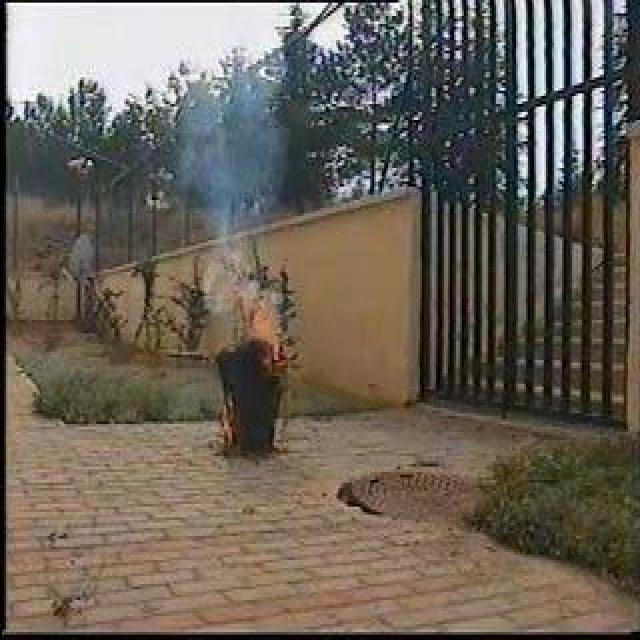fire: (252, 293, 298, 355)
smoke: (179, 81, 275, 218)
